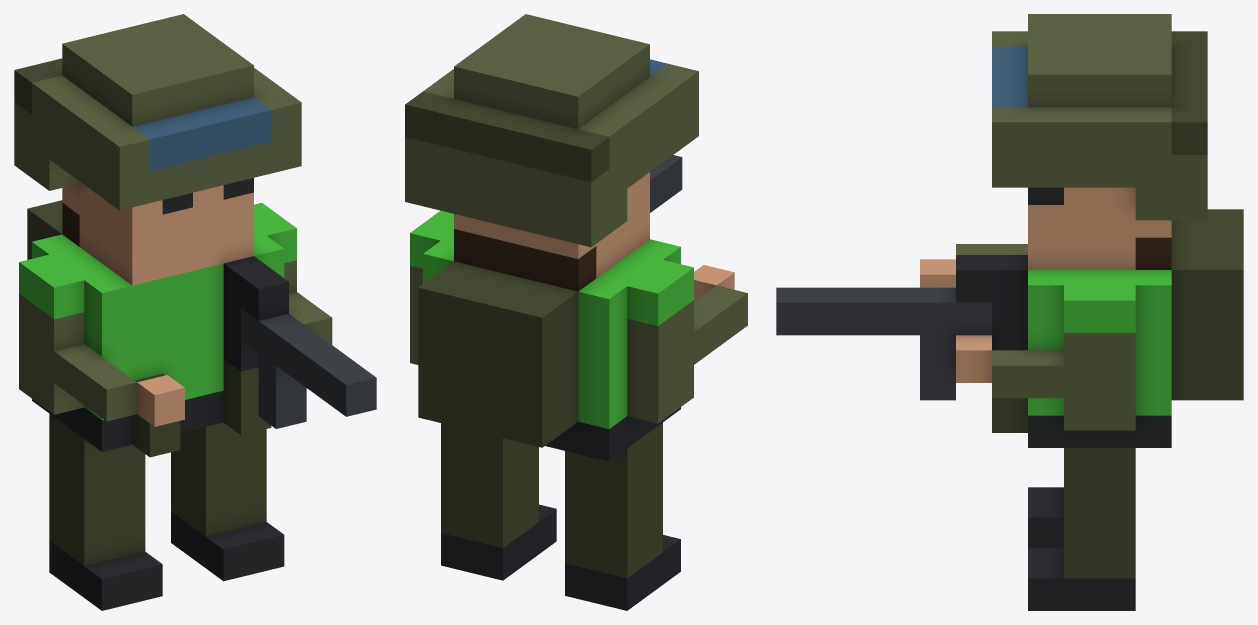
Rendered from cm_rifle_3.glb.
The picture shows the model from 3 angles, left to right: view 1: azimuth 30°, elevation 25°; view 2: azimuth 150°, elevation 25°; view 3: azimuth 270°, elevation 25°; orthographic projection. The views are drawn at different scales.
Parts seen in each view (by area): view 1: cm_rifle_3_body; view 2: cm_rifle_3_body; view 3: cm_rifle_3_body.
Boxes of the visible parts, x1,y1,x2,y2 form: cm_rifle_3_body: (14,14,376,610); cm_rifle_3_body: (405,14,747,610); cm_rifle_3_body: (776,14,1243,610).
Size of the model in its own units: 0.5 by 1 by 0.8125.
Materials: 1 (1 with a texture image).
